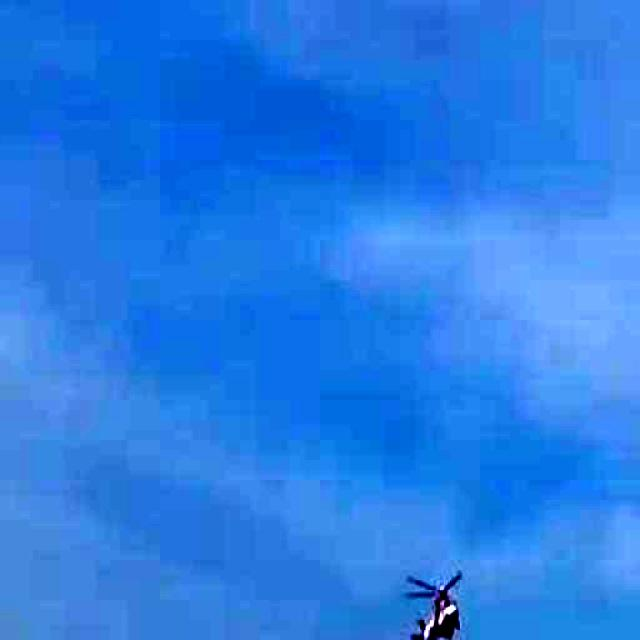drone: (394, 565, 480, 640)
